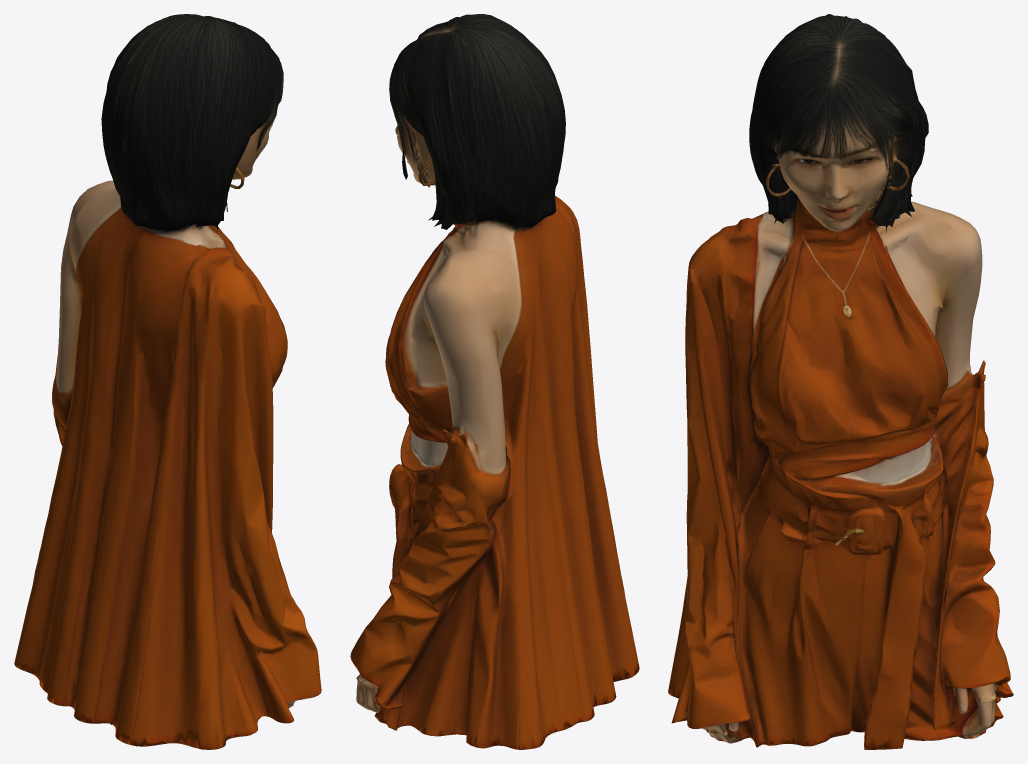
3 views of the same model, side by side, from view 1: azimuth 30°, elevation 25°; view 2: azimuth 150°, elevation 25°; view 3: azimuth 270°, elevation 25° (orthographic). The views are drawn at different scales.
Visible parts, largest first — view 1: tripo_node_fd2a15bf-01e3-4683-a3c4-b27938a553e4; view 2: tripo_node_fd2a15bf-01e3-4683-a3c4-b27938a553e4; view 3: tripo_node_fd2a15bf-01e3-4683-a3c4-b27938a553e4.
Boxes of the visible parts, x1,y1,x2,y2 form: tripo_node_fd2a15bf-01e3-4683-a3c4-b27938a553e4: (14,14,321,749); tripo_node_fd2a15bf-01e3-4683-a3c4-b27938a553e4: (350,14,639,749); tripo_node_fd2a15bf-01e3-4683-a3c4-b27938a553e4: (668,14,1013,749).
Bounding box in the file's own units: 0.3323 × 0.9912 × 0.4451.
1 material, 1 textured.
